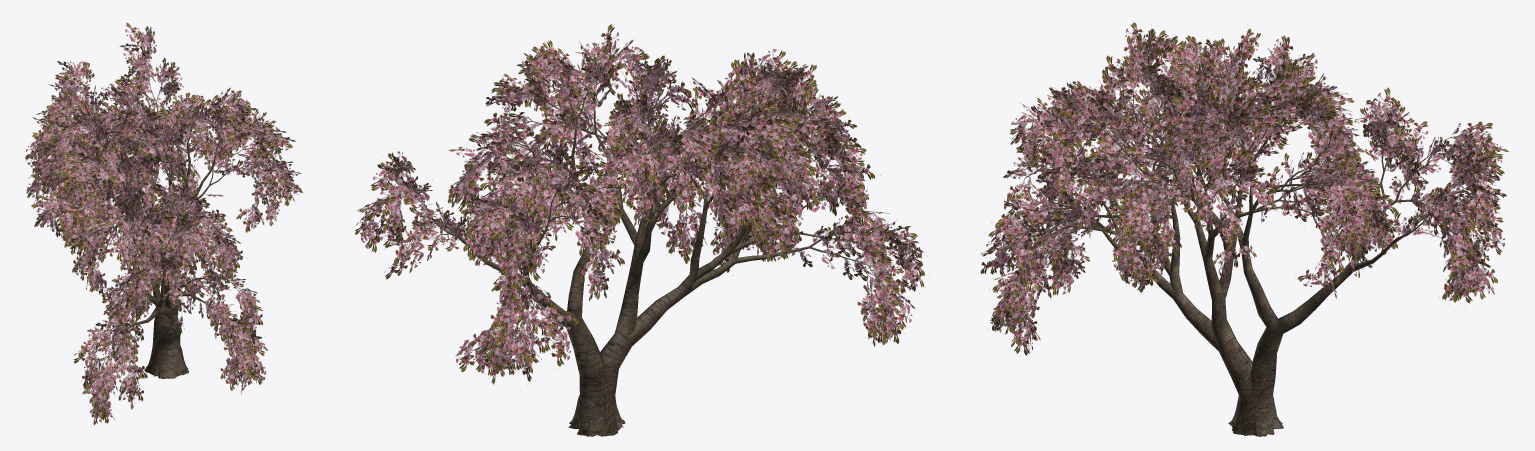
The model's file is sakura-transformed.glb.
3 renders of one model, left to right at view 1: azimuth 30°, elevation 25°; view 2: azimuth 150°, elevation 25°; view 3: azimuth 270°, elevation 25°, orthographic. The views are drawn at different scales.
Parts seen in each view (by area): view 1: Object_2, Object_3; view 2: Object_2, Object_3; view 3: Object_2, Object_3.
Part boxes in pixels (x1,y1,x2,y2): Object_2: (25,22,302,425); Object_3: (39,47,278,378); Object_2: (355,21,929,386); Object_3: (371,53,908,436); Object_2: (980,19,1508,356); Object_3: (999,59,1486,436).
Size of the model in its own units: 2.11 by 2.05 by 2.75.
Materials: 2 (2 with a texture image).
